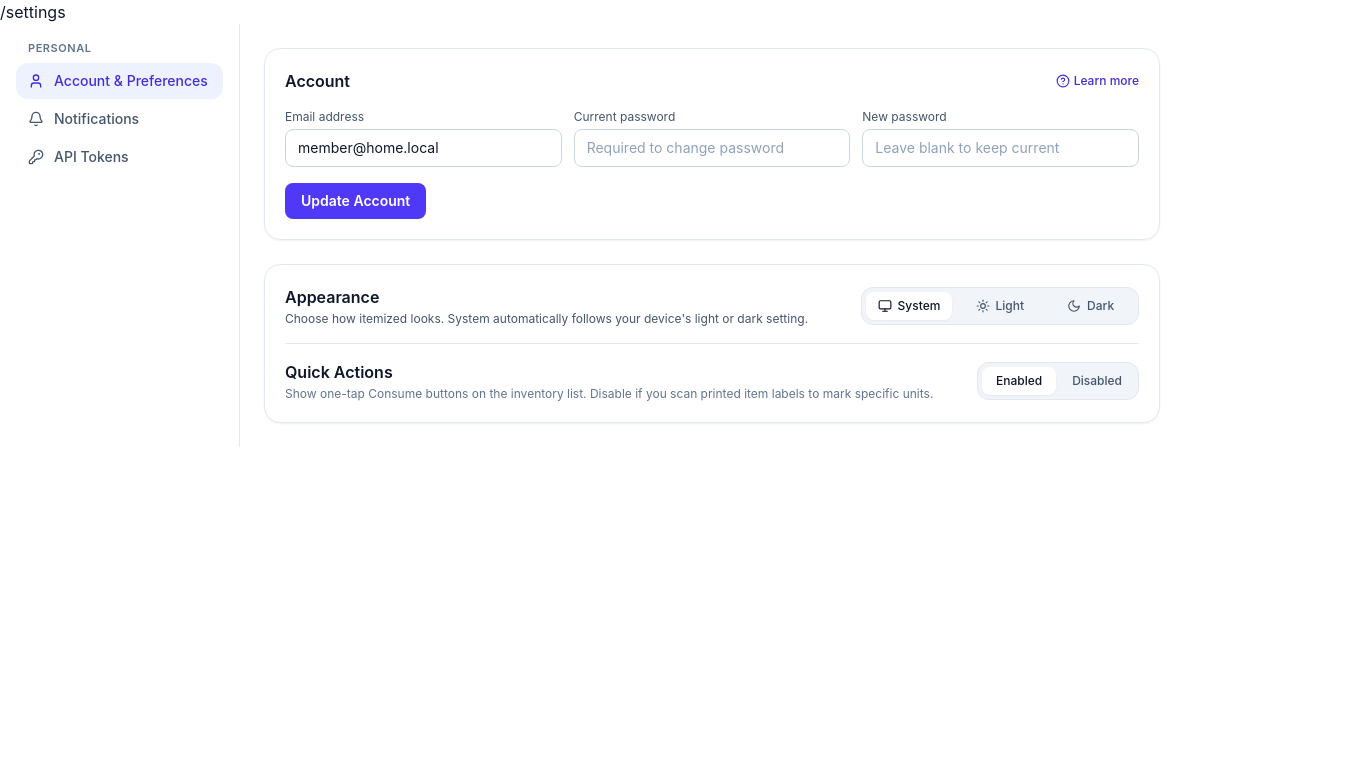
Test: SettingsPage Appearance, Quick Actions, and API Tokens › shows Appearance selector for member users and saves selection to profile via PATCH /api/auth/account
Expected: the heading "Appearance" is shown, x1=285 y1=287 x2=379 y2=307
Step 1. Click the radio button labelled "Dark" → (1091, 306), box x1=1047 y1=292 x2=1134 y2=320
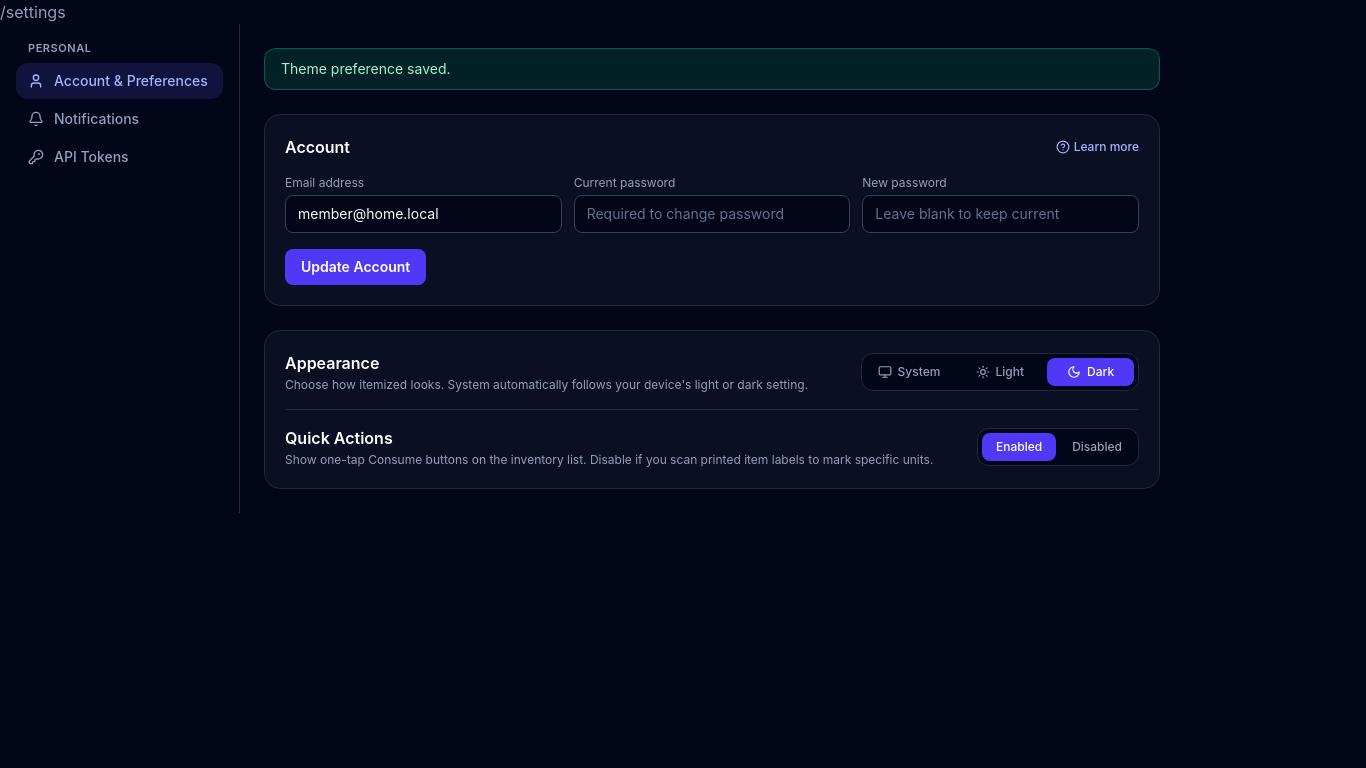
Expected: the text "Theme preference saved." is shown, x1=264 y1=48 x2=1160 y2=90
